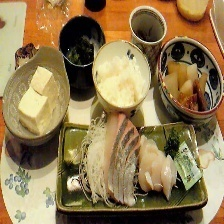sabzi: (163, 56, 215, 114)
